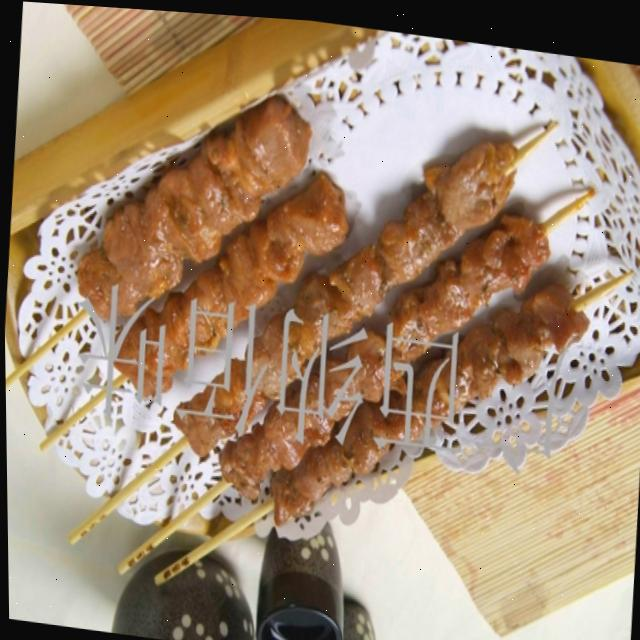烧串烤肉: (34, 53, 562, 554)
